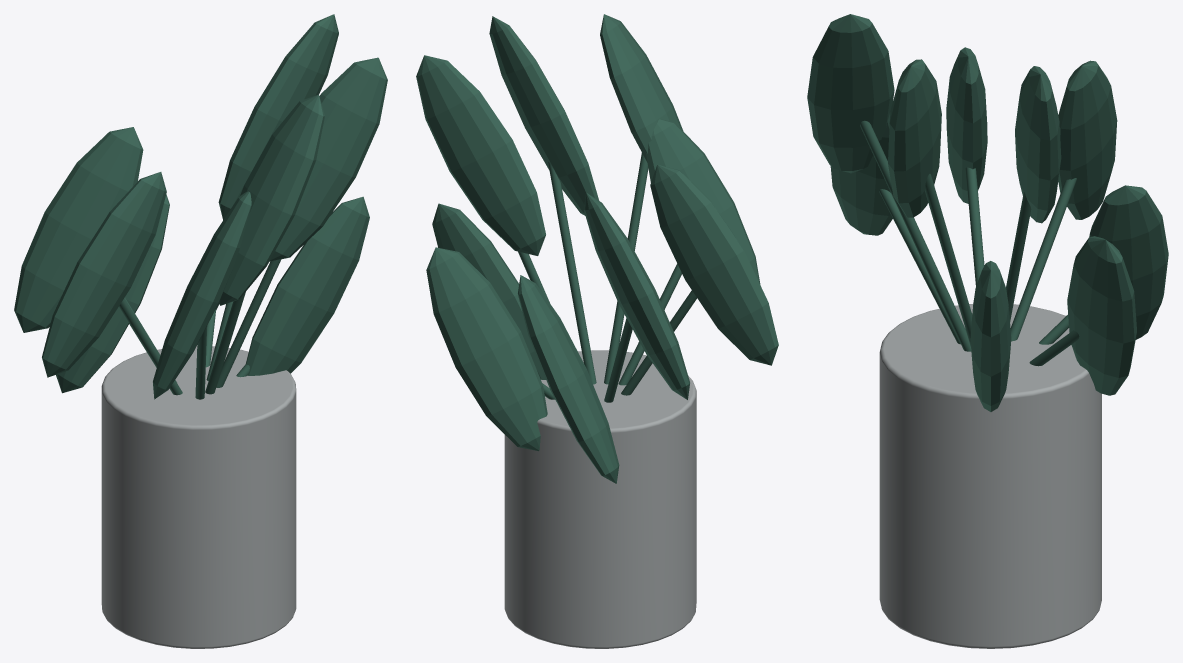
File: ZH_ENV_Existing_Planter_01.fbx
3 views of the same model, side by side, from view 1: azimuth 30°, elevation 25°; view 2: azimuth 150°, elevation 25°; view 3: azimuth 270°, elevation 25° (orthographic). The views are drawn at different scales.
Visible parts, largest first — view 1: Planter.002, Botanical | leaf.019, Botanical | leaf.022, Botanical | leaf.018, Botanical | leaf.023, Botanical | leaf.020, Botanical | leaf.026, Botanical | leaf.025, Botanical | leaf.024, Botanical | stem.023, Botanical | stem.020, Botanical | stem.022 (+1 smaller); view 2: Planter.002, Botanical | leaf.021, Botanical | leaf.026, Botanical | leaf.022, Botanical | leaf.024, Botanical | leaf.023, Botanical | leaf.019, Botanical | leaf.020, Botanical | leaf.025, Botanical | leaf.018, Botanical | stem.023, Botanical | stem.020 (+3 smaller); view 3: Planter.002, Botanical | leaf.020, Botanical | leaf.021, Botanical | leaf.019, Botanical | leaf.023, Botanical | leaf.024, Botanical | leaf.026, Botanical | leaf.018, Botanical | leaf.022, Botanical | leaf.025, Botanical | stem.020, Botanical | stem.019 (+5 smaller).
Part boxes in pixels (x1,y1,x2,y2): Planter.002: (101,346,296,648); Botanical | leaf.019: (14,127,143,332); Botanical | leaf.022: (42,172,166,377); Botanical | leaf.018: (246,196,369,375); Botanical | leaf.023: (269,57,387,261); Botanical | leaf.020: (219,94,324,305); Botanical | leaf.026: (218,14,338,219); Botanical | leaf.025: (153,191,251,399); Botanical | leaf.024: (56,194,169,393); Botanical | stem.023: (216,259,281,387); Botanical | stem.020: (205,292,245,394); Botanical | stem.022: (119,298,182,395); Planter.002: (504,350,696,648); Botanical | leaf.021: (426,247,547,451); Botanical | leaf.026: (416,55,545,255); Botanical | leaf.022: (650,164,778,365); Botanical | leaf.024: (518,275,619,483); Botanical | leaf.023: (489,16,599,215); Botanical | leaf.019: (584,192,689,399); Botanical | leaf.020: (600,14,683,162); Botanical | leaf.025: (645,119,760,284); Botanical | leaf.018: (432,203,545,379); Botanical | stem.023: (548,161,596,384); Botanical | stem.020: (604,153,648,384); Planter.002: (879,304,1101,648); Botanical | leaf.020: (807,14,894,173); Botanical | leaf.021: (1067,236,1136,395); Botanical | leaf.019: (1058,60,1117,219); Botanical | leaf.023: (888,59,941,217); Botanical | leaf.024: (1089,185,1168,339); Botanical | leaf.026: (1015,66,1061,223); Botanical | leaf.018: (970,261,1011,411); Botanical | leaf.022: (946,47,987,203); Botanical | leaf.025: (830,112,892,235); Botanical | stem.020: (860,120,971,351); Botanical | stem.019: (1010,178,1076,341).
Bounding box in the file's own units: 0.7625 × 1.17 × 0.6176.
